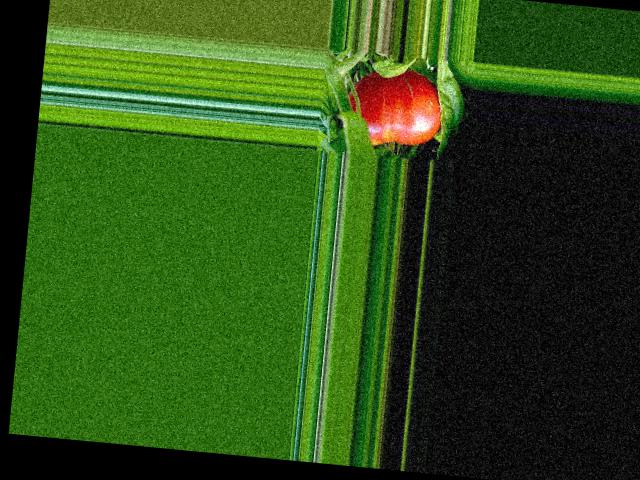tomato: (343, 65, 446, 151)
